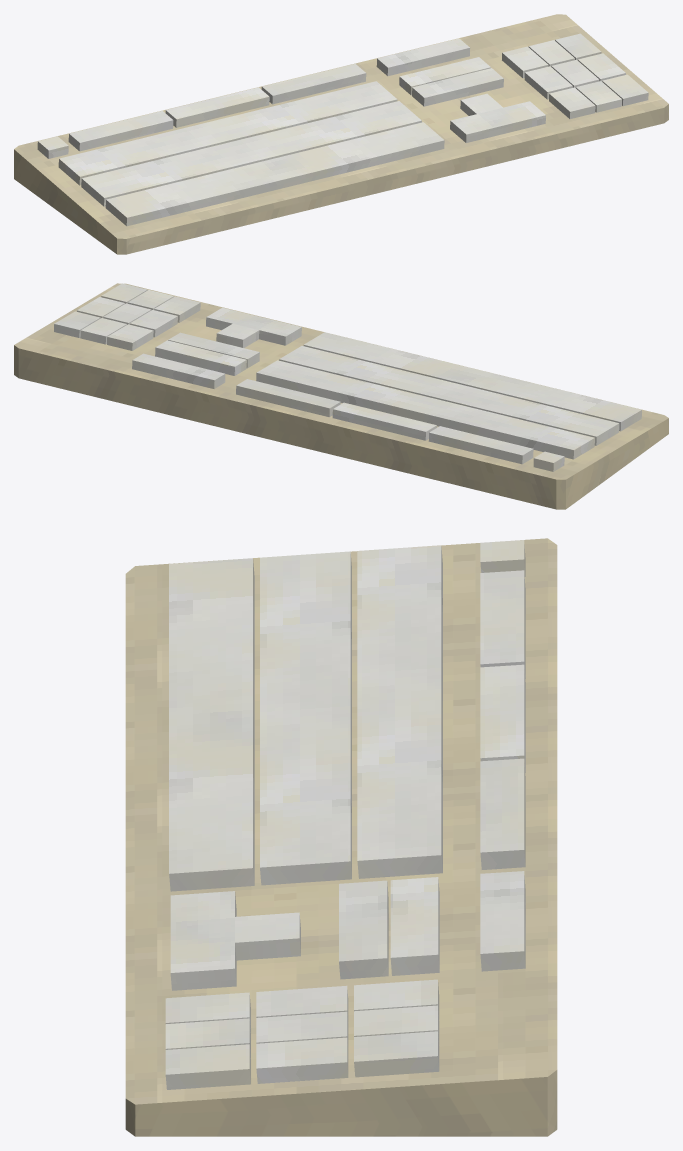
Rendered from SM_Computer_Keyboard.fbx.
3 views of the same model, one above another, from view 1: azimuth 30°, elevation 25°; view 2: azimuth 150°, elevation 25°; view 3: azimuth 270°, elevation 25° (orthographic). The views are drawn at different scales.
Visible parts, largest first — view 1: SM_Computer_Keyboard; view 2: SM_Computer_Keyboard; view 3: SM_Computer_Keyboard.
Part boxes in pixels (box(x1,y1,x2,y2)): SM_Computer_Keyboard: box(14, 14, 668, 254); SM_Computer_Keyboard: box(14, 283, 668, 509); SM_Computer_Keyboard: box(125, 538, 557, 1136).
Bounding box in the file's own units: 69.78 × 4.57 × 23.62.
Materials: 2 (2 with a texture image).
